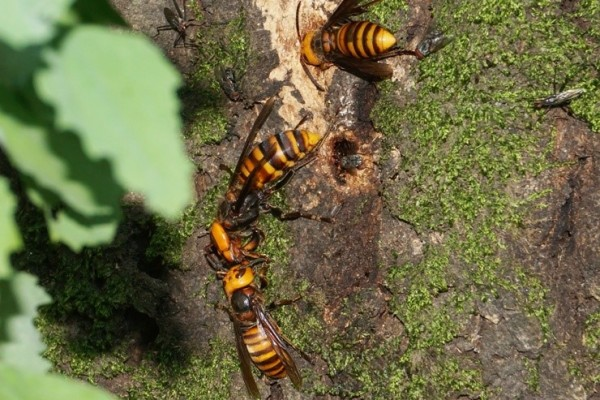asian_giant_hornet: (203, 92, 317, 264), (290, 1, 428, 92), (222, 265, 311, 387)
